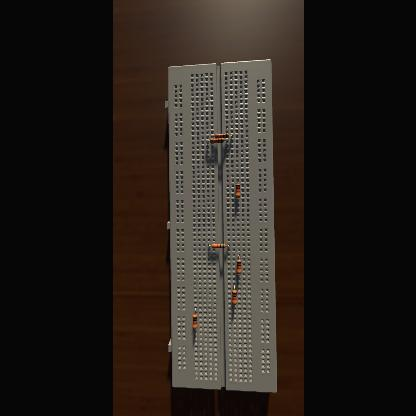breadboard: (165, 59, 277, 392)
resistor: (193, 314, 197, 330), (237, 260, 241, 274), (236, 184, 240, 198), (232, 290, 236, 304), (214, 134, 228, 138), (211, 244, 225, 248), (210, 138, 224, 142)
wire: (233, 284, 235, 290), (223, 140, 226, 144), (194, 308, 196, 314), (236, 198, 238, 202), (228, 136, 232, 138), (207, 140, 209, 144), (237, 254, 238, 260), (225, 244, 228, 246), (238, 274, 240, 276), (236, 181, 238, 183), (212, 136, 214, 138), (209, 244, 211, 246), (194, 329, 196, 330)
